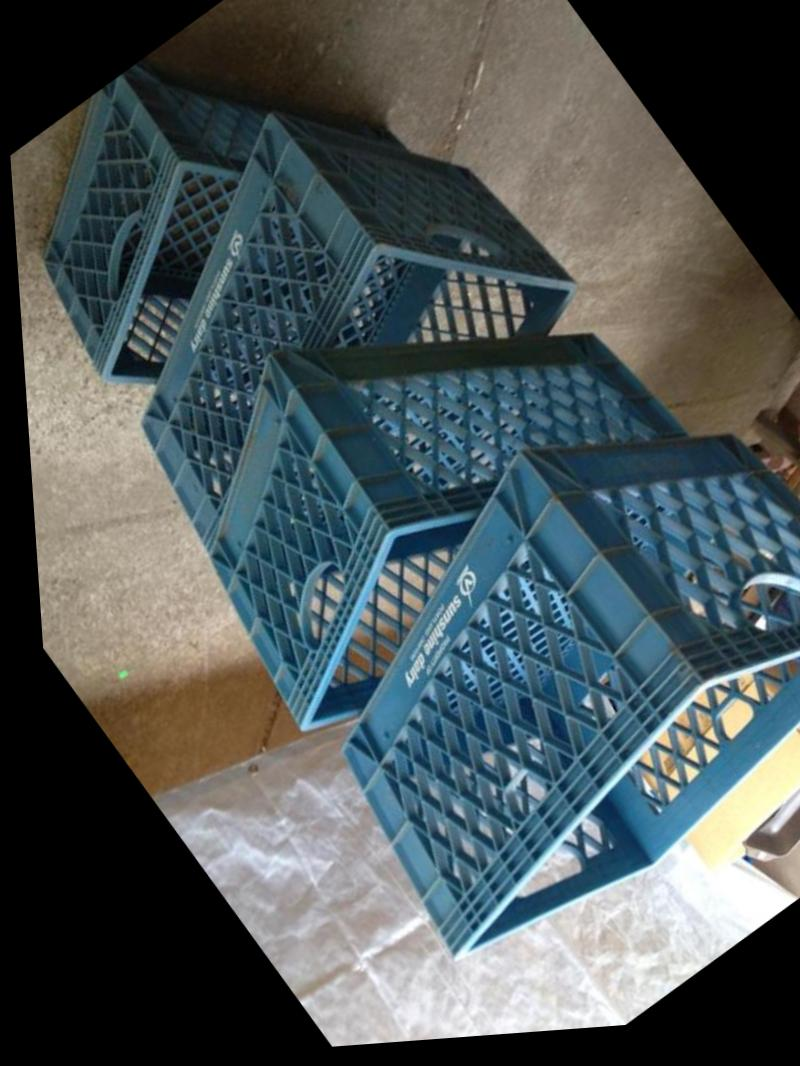plastic: (94, 117, 743, 727), (227, 334, 799, 951), (0, 0, 481, 515)
